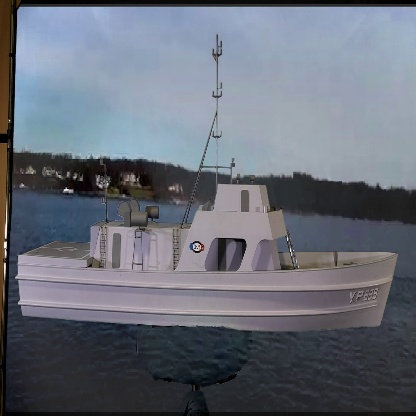YP689: (16, 37, 399, 332)
